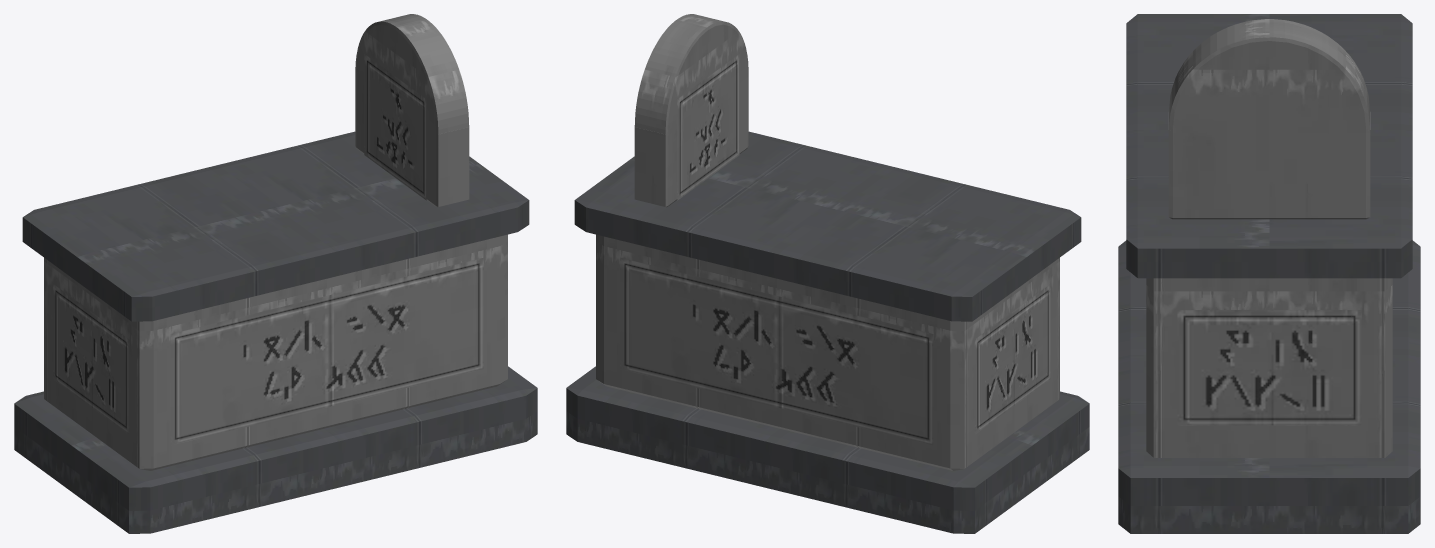
File: tmbstone.glb
The picture shows the model from 3 angles, left to right: view 1: azimuth 30°, elevation 25°; view 2: azimuth 150°, elevation 25°; view 3: azimuth 270°, elevation 25°; orthographic projection. The views are drawn at different scales.
Visible parts, largest first — view 1: box; view 2: box; view 3: box.
Boxes of the visible parts, x1=… form: box: x1=14, y1=14, x2=537, y2=533; box: x1=566, y1=14, x2=1089, y2=533; box: x1=1118, y1=14, x2=1420, y2=533.
Bounding box in the file's own units: 1.31 × 1.18 × 0.6919.
Materials: 7 (7 with a texture image).
